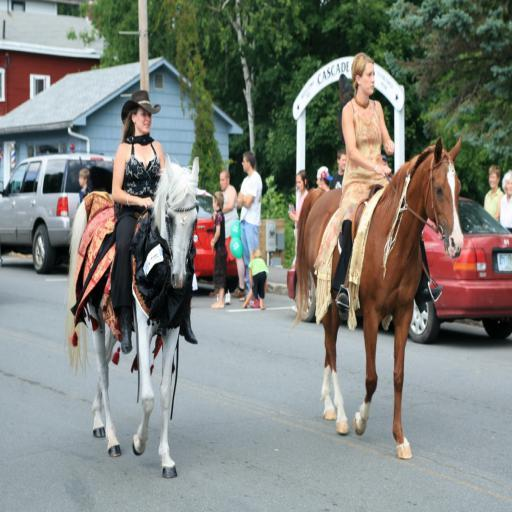horse: (291, 134, 464, 456), (62, 151, 200, 476)
